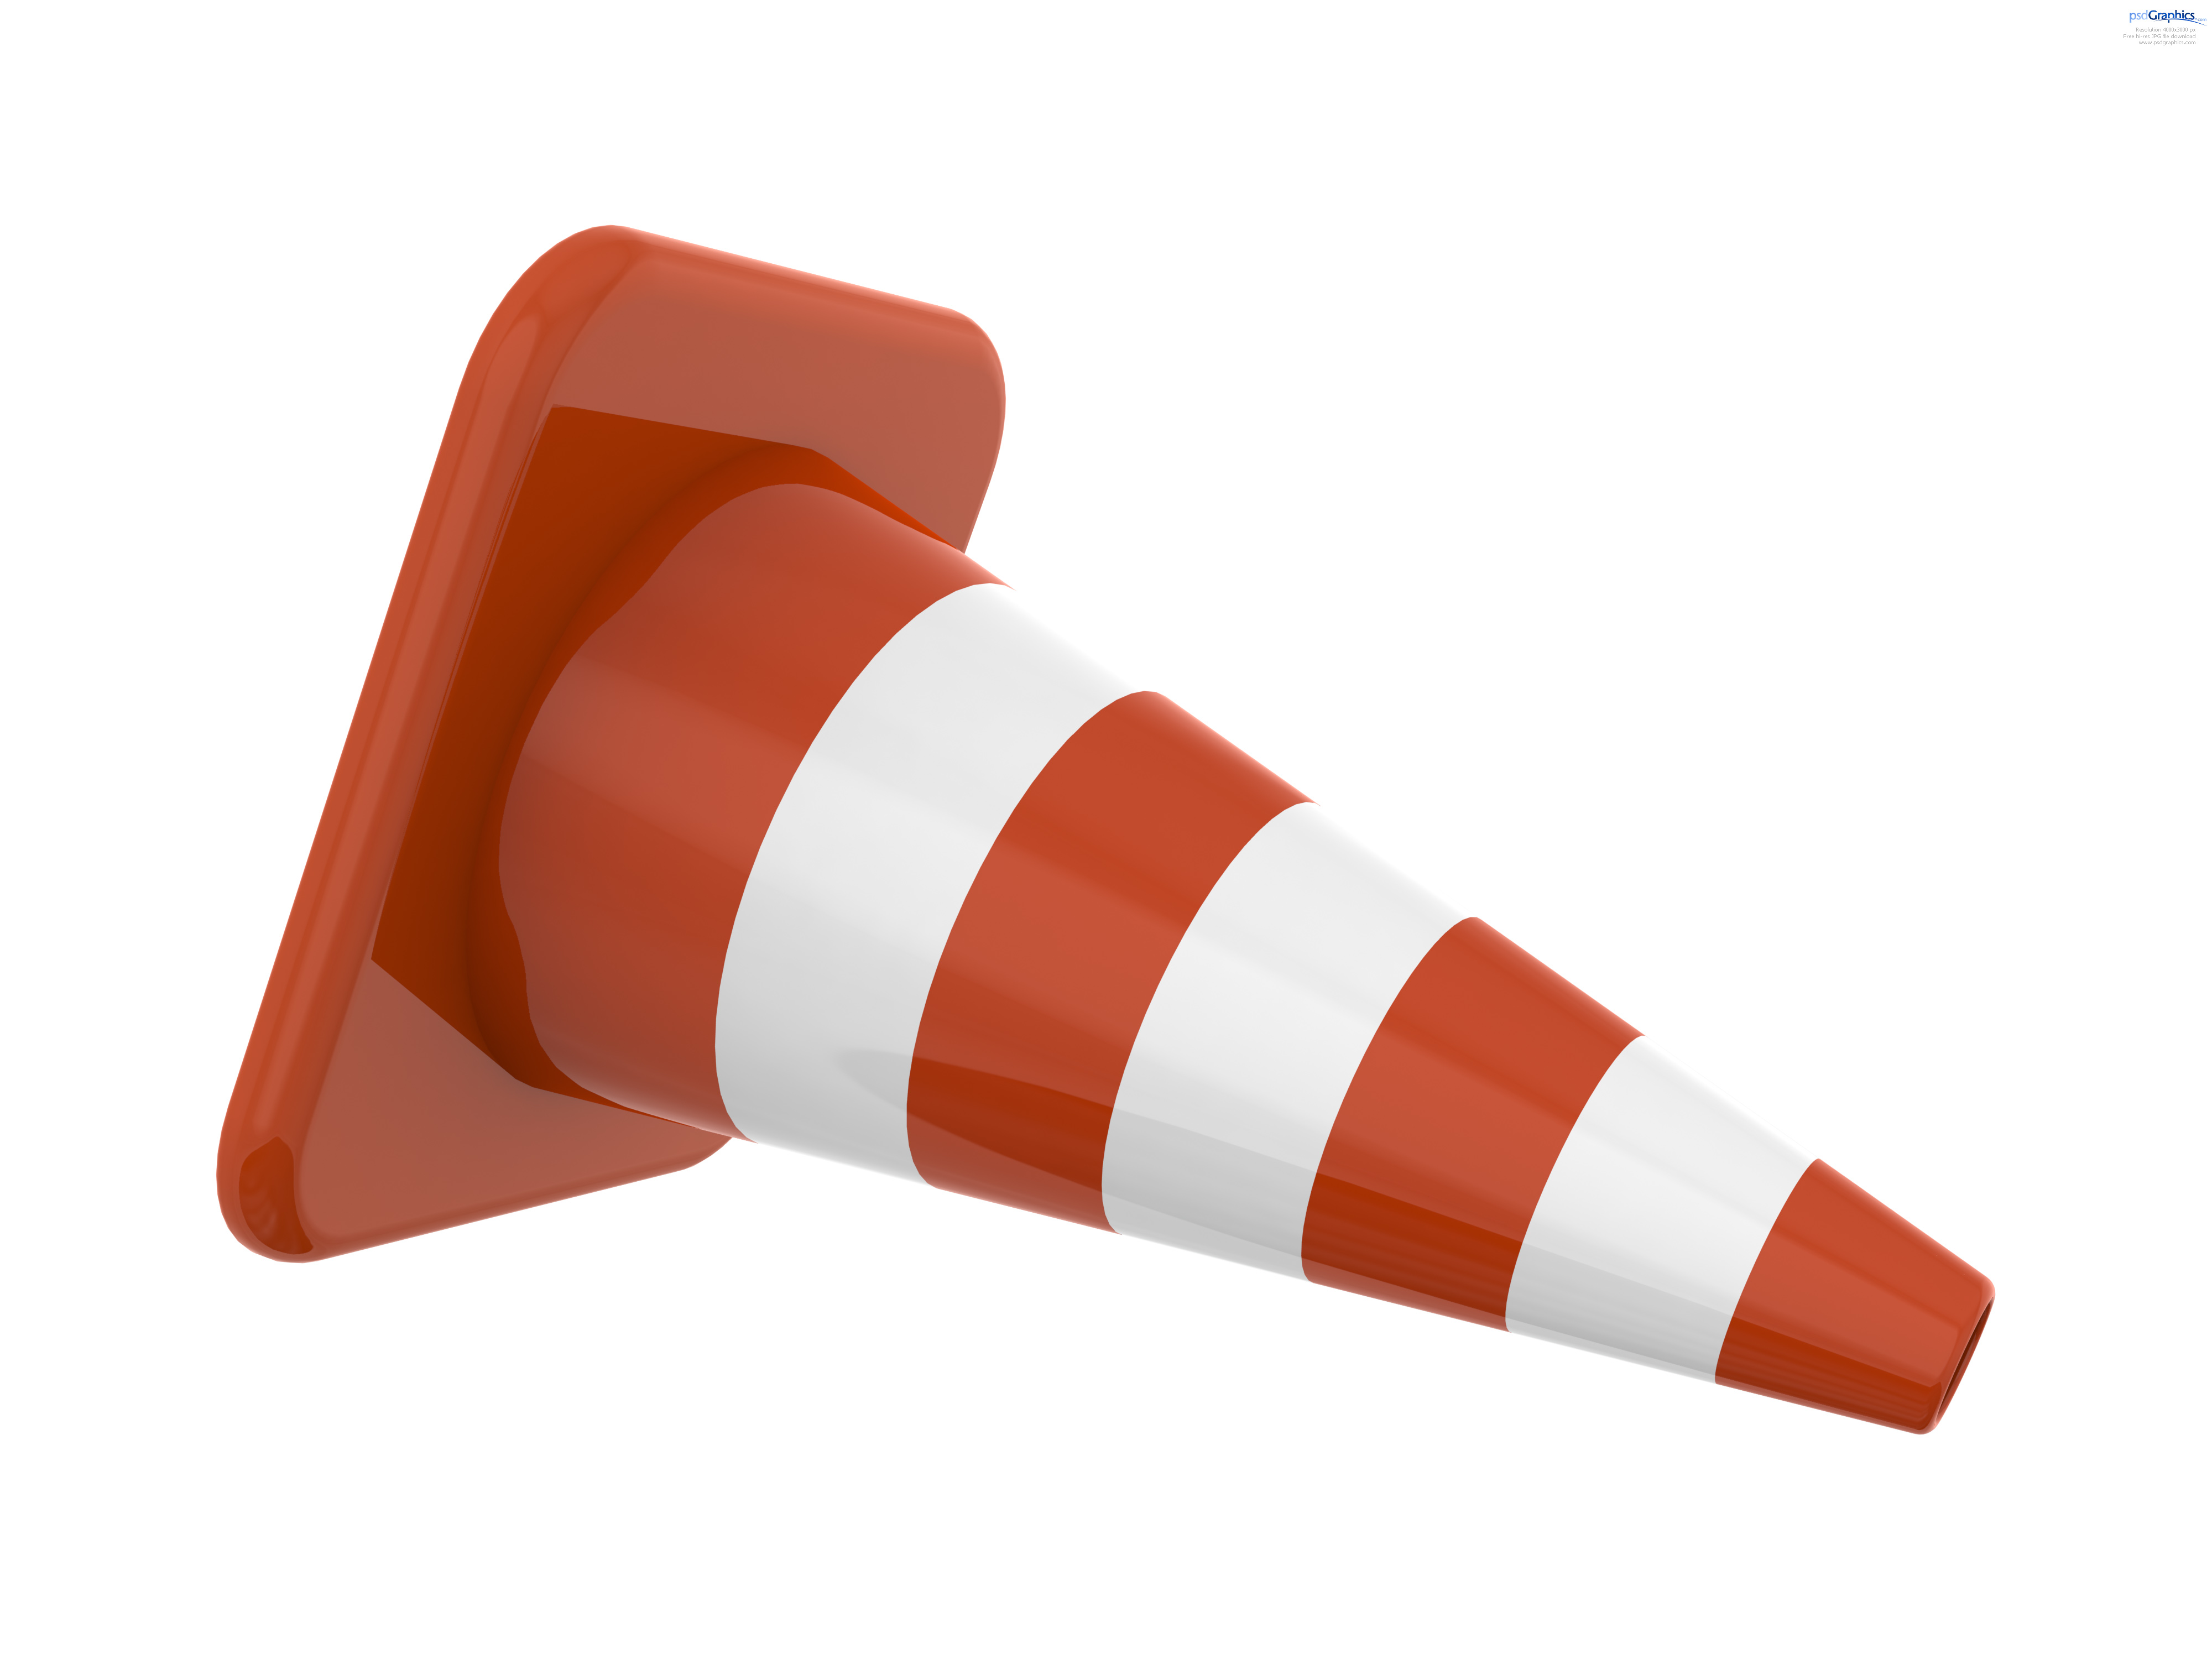cones: (202, 221, 2022, 1455)
